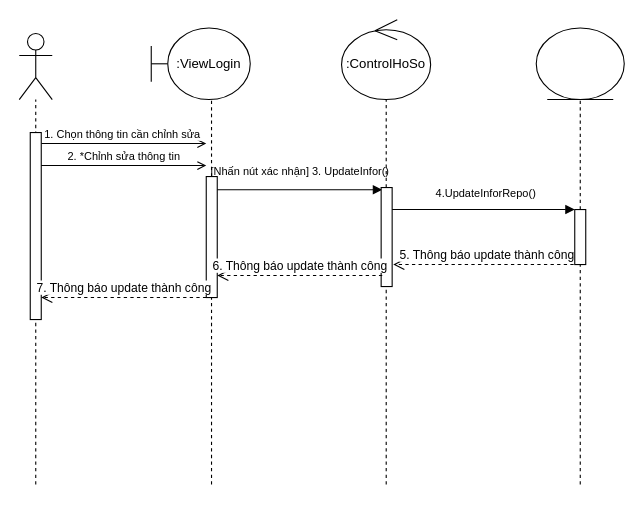
The diagram is 644 pixels wide and 505 high, and some of its shapes have lost their labels. Here are the shapes that lost their labels. From the top down, the centre of each, then its label:
(x=35, y=66): :User
(x=579, y=63): :HoSoEntity
